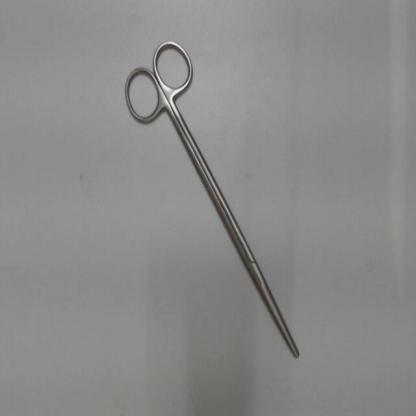9 Metzenbaum Scissors: (120, 31, 304, 363)
